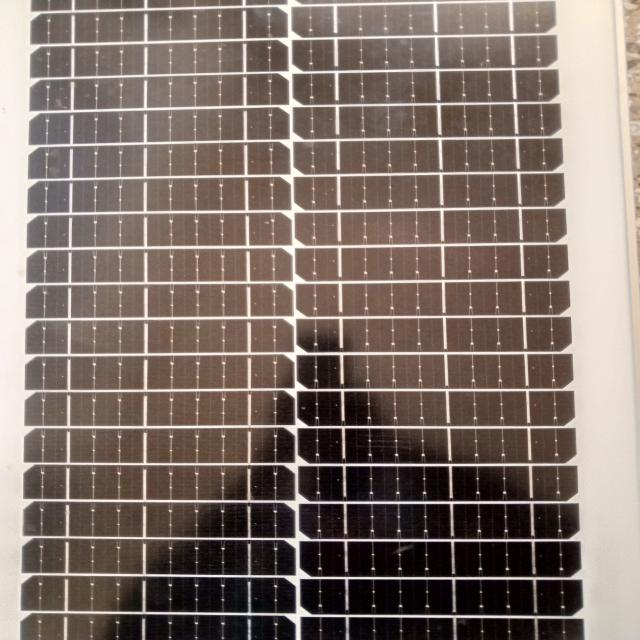Clean: (19, 7, 603, 634)
